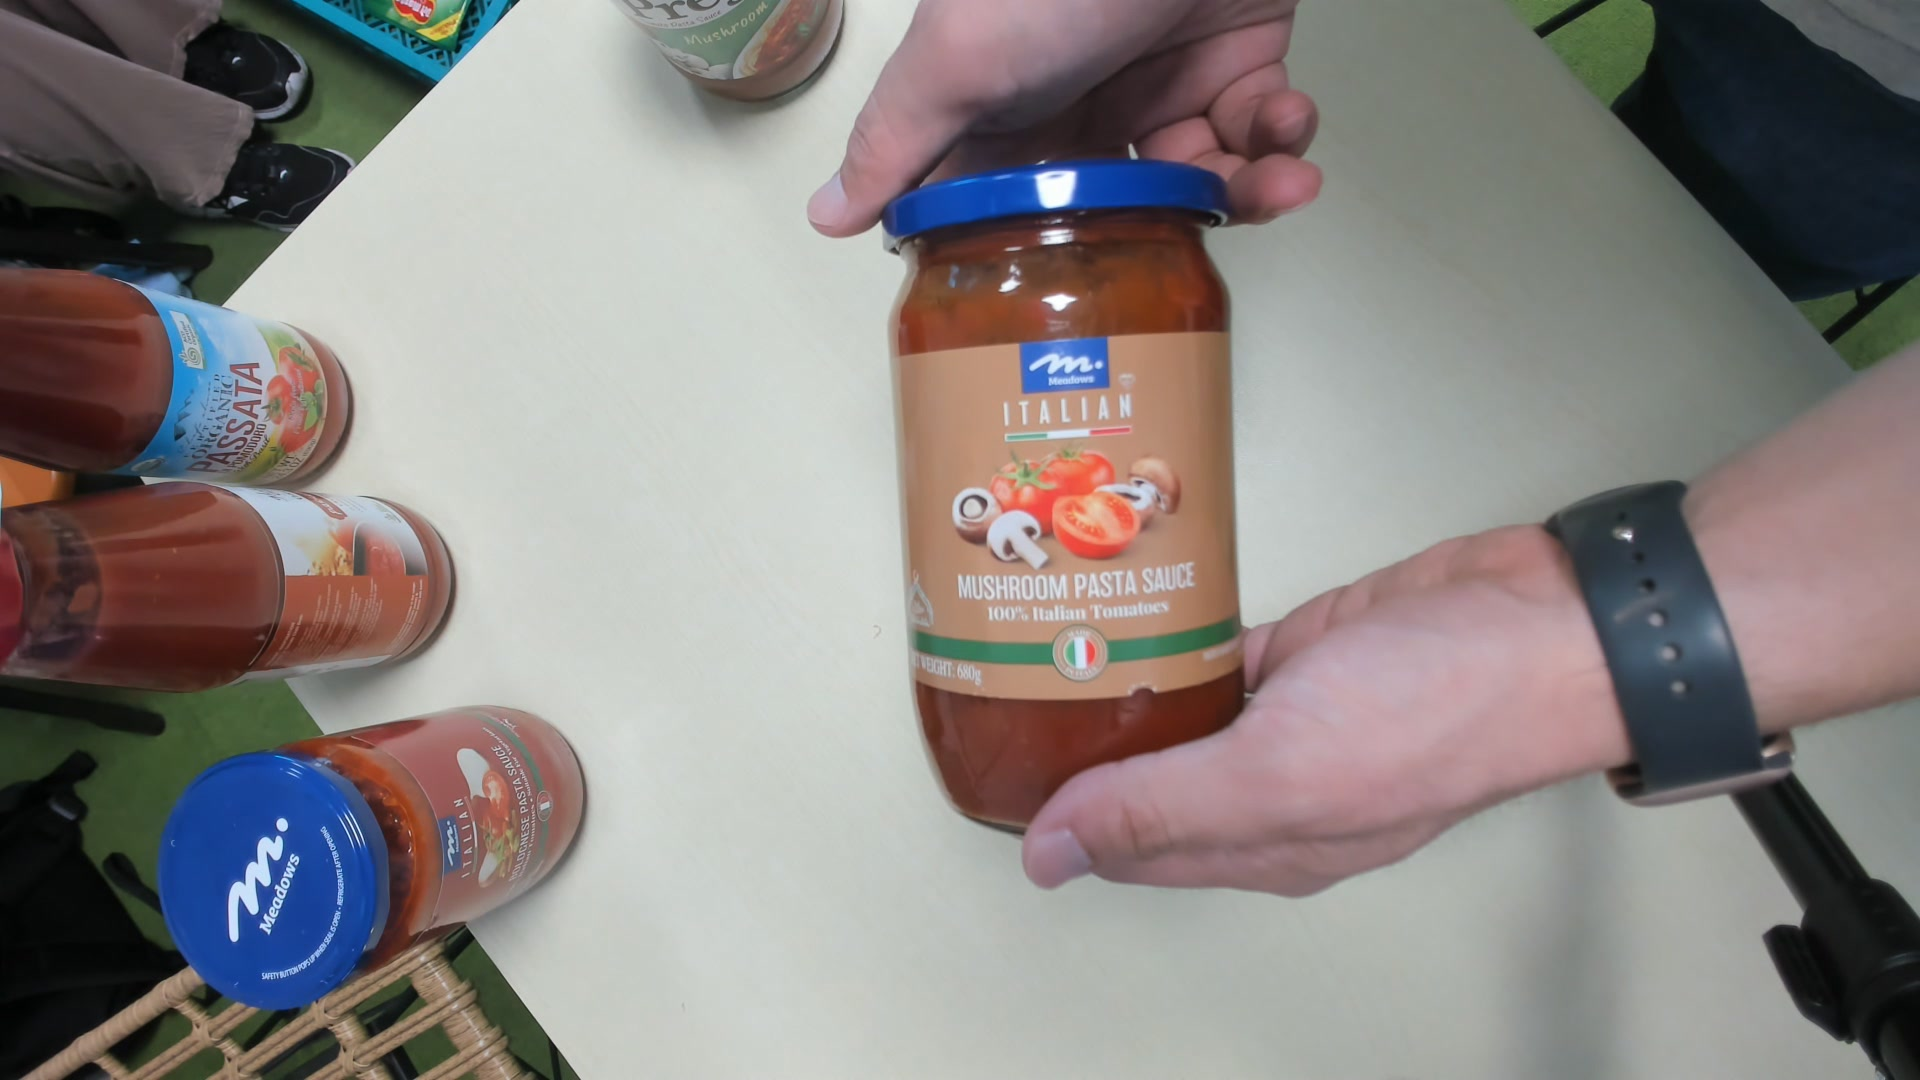PastaSauce_600-699g_Halal_NonHealthy: (884, 164, 1250, 847)
